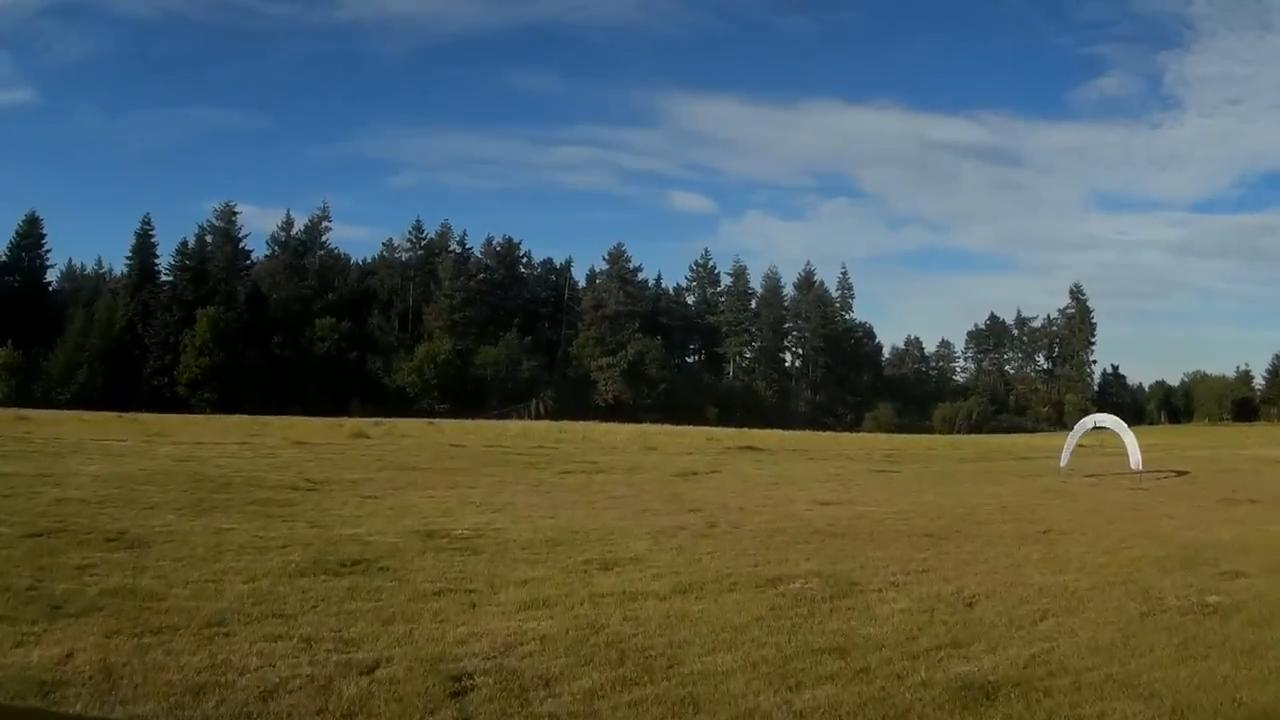gate: (1059, 411, 1144, 473)
